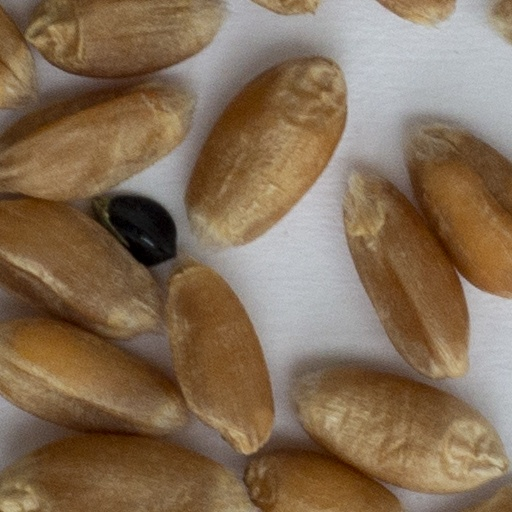Fallopia-Convolvulus-poly: (101, 196, 174, 263)
